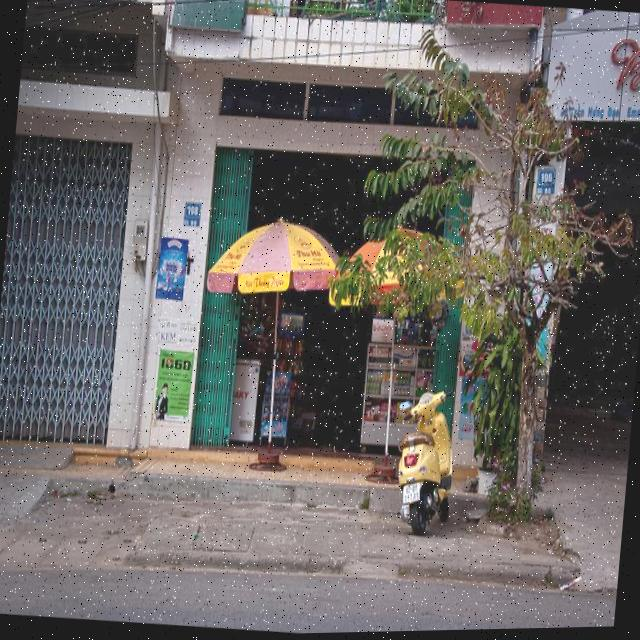motorcycle: (390, 374, 470, 536)
plate: (398, 478, 423, 507)
